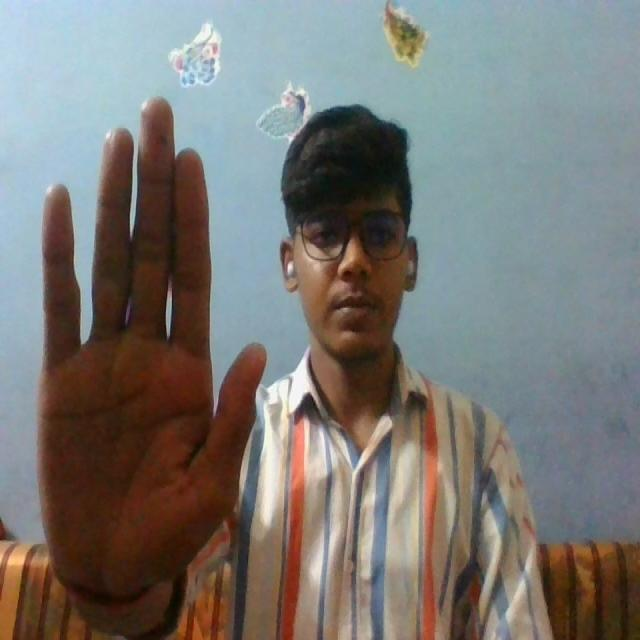Hello: (7, 83, 279, 636)
